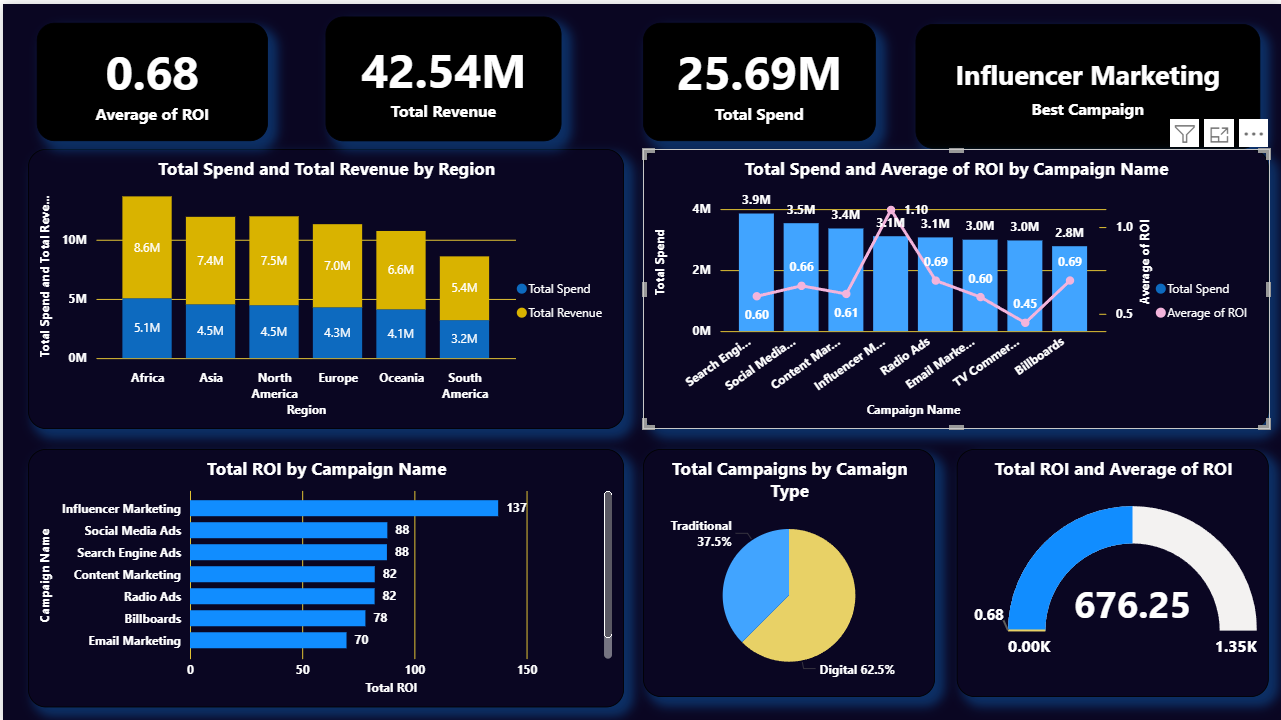

The page's visual inventory and layout, read from the dashboard file:
{"tool":"powerbi","page":{"name":"Campaign Performance Overview","canvas":[1280,720],"ordinal":0},"visuals":[{"type":"columnChart","fields":{"Y":["marketing campaign performance.Total Spend","marketing campaign performance.Total Revenue"],"Category":["marketing campaign performance.Region"]},"box":[25,145.4,596,280.1],"z":0},{"type":"lineClusteredColumnComboChart","fields":{"Category":["marketing campaign details.Campaign Name"],"Y":["marketing campaign performance.Total Spend"],"Y2":["Avg(marketing campaign performance.ROI)"]},"box":[640.1,145.4,625.8,280.1],"z":1},{"type":"barChart","fields":{"Category":["marketing campaign details.Campaign Name"],"Y":["marketing campaign details.Total ROI"]},"box":[25,444.6,596,258.7],"z":2},{"type":"pieChart","title":"Total Campaigns by Camaign Type","fields":{"Category":["marketing campaign details.Camaign Type"],"Y":["CountNonNull(marketing campaign details.Total Campaigns)"]},"box":[640.1,444.6,292,247.9],"z":3},{"type":"gauge","fields":{"TargetValue":["Avg(marketing campaign performance.ROI)"],"Y":["marketing campaign details.Total ROI"]},"box":[953.6,444.6,312.3,247.9],"z":4},{"type":"card","fields":{"Values":["Avg(marketing campaign performance.ROI)"]},"box":[33.4,19.1,231.3,118],"z":5},{"type":"card","fields":{"Values":["marketing campaign performance.Total Revenue"]},"box":[323,11.9,236,125.2],"z":6},{"type":"card","fields":{"Values":["marketing campaign performance.Total Spend"]},"box":[640.1,19.1,232.4,118],"z":7},{"type":"card","fields":{"Values":["marketing campaign details.Best Campaign"]},"box":[911.9,20.3,344.5,125.2],"z":8}]}

Visuals, with their boxes in screenshot pixels (x1, y1, x2, y2), scaled from the page's 1280x720 canvas onto the 1281x720 screenshot:
columnChart - marketing campaign performance.Total Spend x marketing campaign performance.Total Revenue: {"left": 25, "top": 145, "right": 621, "bottom": 426}
lineClusteredColumnComboChart - marketing campaign details.Campaign Name x marketing campaign performance.Total Spend: {"left": 641, "top": 145, "right": 1267, "bottom": 426}
barChart - marketing campaign details.Campaign Name x marketing campaign details.Total ROI: {"left": 25, "top": 445, "right": 621, "bottom": 703}
"Total Campaigns by Camaign Type" pieChart: {"left": 641, "top": 445, "right": 933, "bottom": 692}
gauge - Avg(marketing campaign performance.ROI) x marketing campaign details.Total ROI: {"left": 954, "top": 445, "right": 1267, "bottom": 692}
card - Avg(marketing campaign performance.ROI): {"left": 33, "top": 19, "right": 265, "bottom": 137}
card - marketing campaign performance.Total Revenue: {"left": 323, "top": 12, "right": 559, "bottom": 137}
card - marketing campaign performance.Total Spend: {"left": 641, "top": 19, "right": 873, "bottom": 137}
card - marketing campaign details.Best Campaign: {"left": 913, "top": 20, "right": 1257, "bottom": 146}
